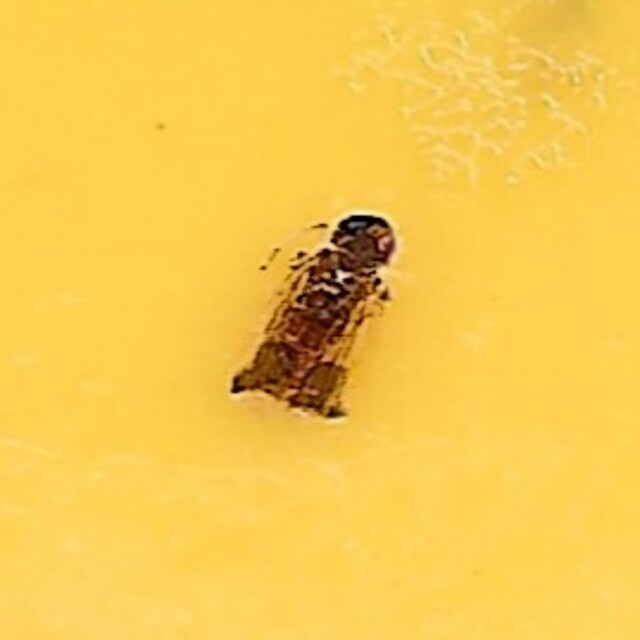Hemiptera: (238, 209, 402, 431)
